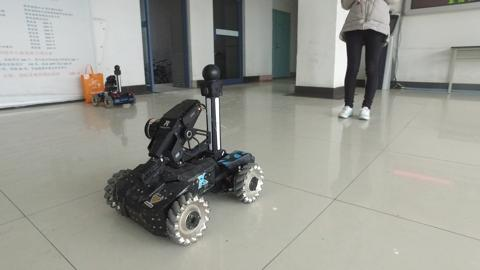bag: (74, 63, 113, 112)
chariot: (101, 59, 274, 247), (90, 64, 139, 108)
